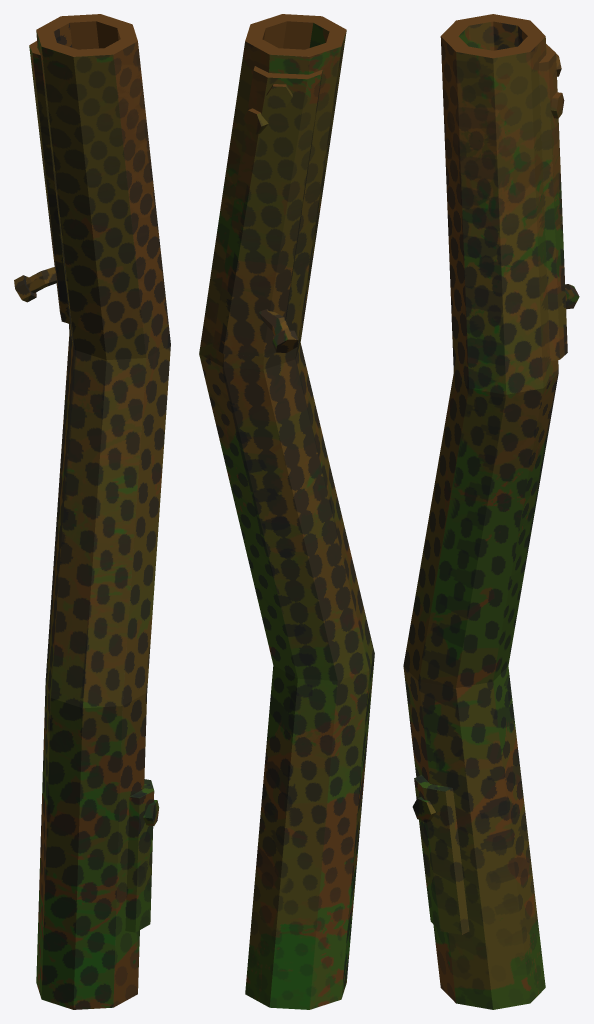
Rendered from Pipe_straight.obj.
3 views of the same model, side by side, from view 1: azimuth 30°, elevation 25°; view 2: azimuth 150°, elevation 25°; view 3: azimuth 270°, elevation 25° (orthographic).
Parts seen in each view (by area): view 1: Pipe_Straight; view 2: Pipe_Straight; view 3: Pipe_Straight.
Part boxes in pixels (x1,y1,x2,y2): Pipe_Straight: (14,14,170,1009); Pipe_Straight: (199,14,374,1009); Pipe_Straight: (403,14,579,1009).
Bounding box in the file's own units: 0.1538 × 1 × 0.1677.
